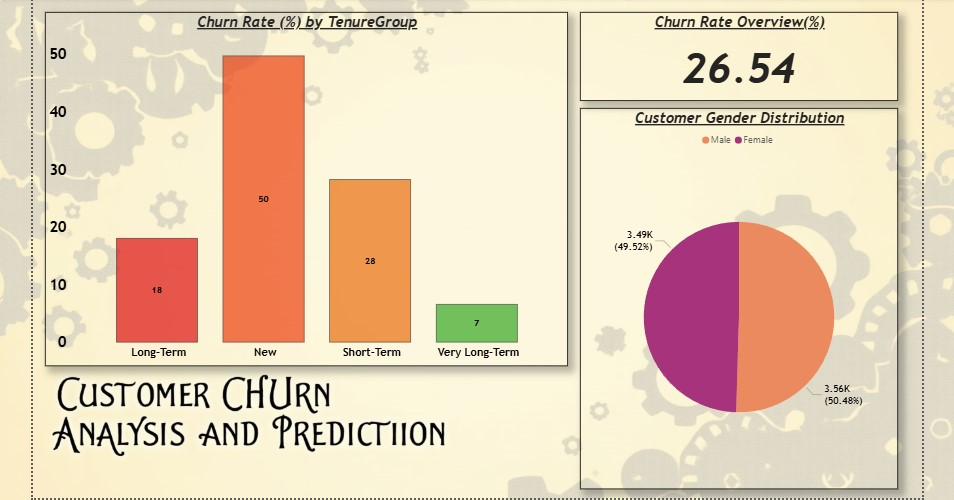

The page's visual inventory and layout, read from the dashboard file:
{"tool":"powerbi","page":{"name":"Overview","canvas":[1280,720],"ordinal":0},"visuals":[{"type":"card","title":"Churn Rate Overview(%)","fields":{"Values":["Telco_Customer_Churn_Dataset  (2).Churn Rate (%)"]},"box":[787.7,20.2,457.9,128.2],"z":0},{"type":"columnChart","fields":{"Y":["Telco_Customer_Churn_Dataset  (2).Churn Rate (%)"],"Category":["Telco_Customer_Churn_Dataset  (2).TenureGroup"]},"box":[17.3,20.2,753.1,509.8],"z":1000},{"type":"pieChart","title":"Customer Gender Distribution","fields":{"Y":["CountNonNull(Telco_Customer_Churn_Dataset  (2).customerID)"],"Category":["Telco_Customer_Churn_Dataset  (2).gender"]},"box":[787.7,158.4,457.9,548.6],"z":3000}]}

Visuals, with their boxes in screenshot pixels (x1, y1, x2, y2):
"Churn Rate Overview(%)" card: [579,14,892,102]
columnChart - Telco_Customer_Churn_Dataset  (2).Churn Rate (%) x Telco_Customer_Churn_Dataset  (2).TenureGroup: [52,14,567,363]
"Customer Gender Distribution" pieChart: [579,108,892,484]
